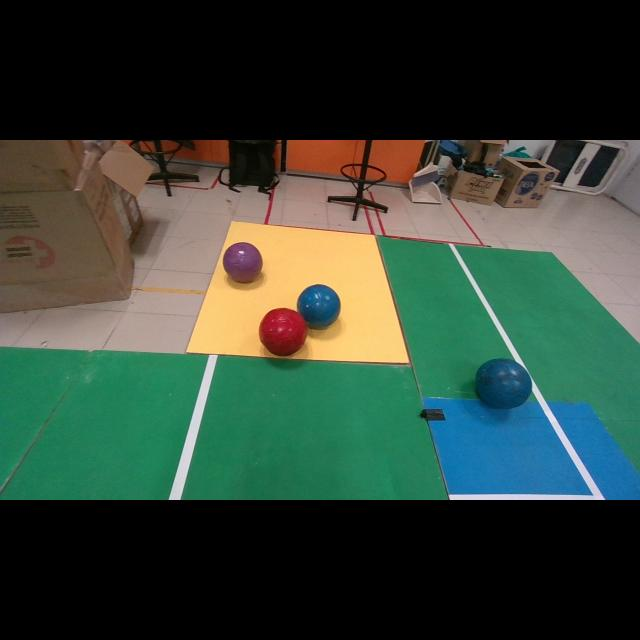B: (475, 359, 532, 408), (298, 284, 341, 328)
P: (222, 242, 261, 282)
R: (260, 308, 308, 356)
